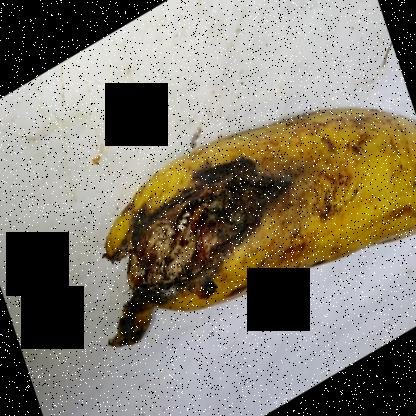rotten: (95, 134, 315, 362)
